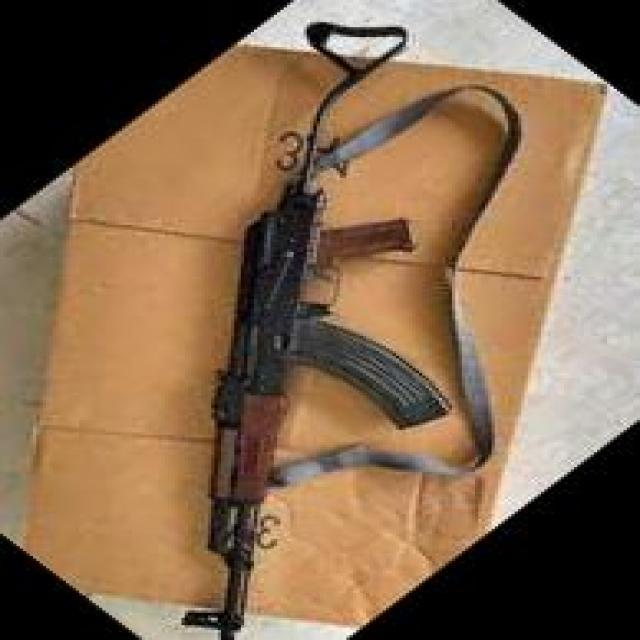weapon: (180, 19, 455, 640)
